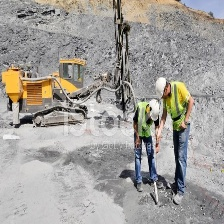helmet: (155, 77, 167, 101), (149, 100, 161, 123)
person: (154, 74, 195, 207), (132, 98, 166, 194)
vest: (169, 82, 189, 132)
